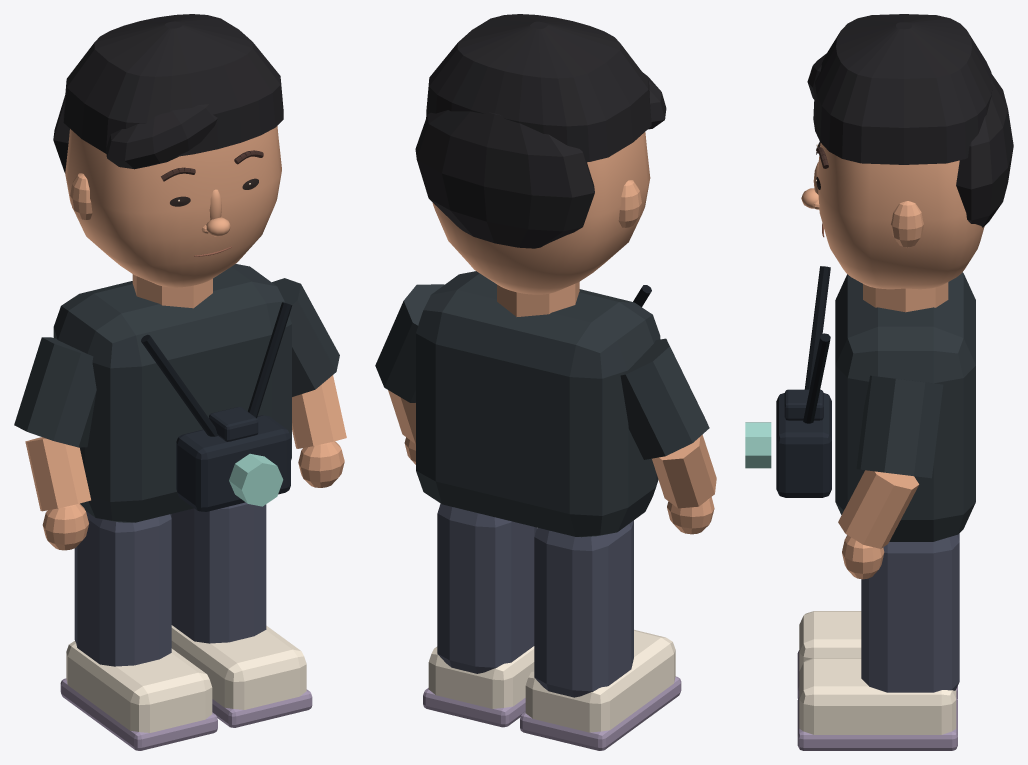
File: sam-avatar.glb
3 views of the same model, side by side, from view 1: azimuth 30°, elevation 25°; view 2: azimuth 150°, elevation 25°; view 3: azimuth 270°, elevation 25° (orthographic). The views are drawn at different scales.
Parts seen in each view (by area): view 1: HeadMesh, BodyMesh, LegLMesh, LegRMesh, ArmLMesh, ArmRMesh; view 2: HeadMesh, BodyMesh, LegLMesh, LegRMesh, ArmLMesh, ArmRMesh; view 3: HeadMesh, BodyMesh, LegRMesh, ArmRMesh, LegLMesh.
Part boxes in pixels (x1=…): HeadMesh: x1=53, y1=14, x2=283, y2=287; BodyMesh: x1=53, y1=264, x2=292, y2=522; LegLMesh: x1=60, y1=511, x2=217, y2=750; LegRMesh: x1=170, y1=502, x2=312, y2=727; ArmLMesh: x1=14, y1=337, x2=96, y2=550; ArmRMesh: x1=272, y1=278, x2=346, y2=487; HeadMesh: x1=415, y1=14, x2=666, y2=294; BodyMesh: x1=416, y1=271, x2=660, y2=537; LegLMesh: x1=520, y1=520, x2=681, y2=750; LegRMesh: x1=423, y1=503, x2=536, y2=727; ArmLMesh: x1=620, y1=338, x2=716, y2=534; ArmRMesh: x1=375, y1=284, x2=444, y2=464; HeadMesh: x1=801, y1=14, x2=1013, y2=289; BodyMesh: x1=745, y1=266, x2=975, y2=541; LegRMesh: x1=797, y1=533, x2=959, y2=750; ArmRMesh: x1=838, y1=375, x2=943, y2=579; LegLMesh: x1=797, y1=611, x2=957, y2=698.
Size of the model in its own units: 1.13 by 2.3 by 0.82.
